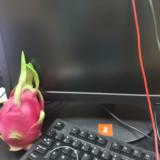pitaya: (1, 55, 46, 151)
